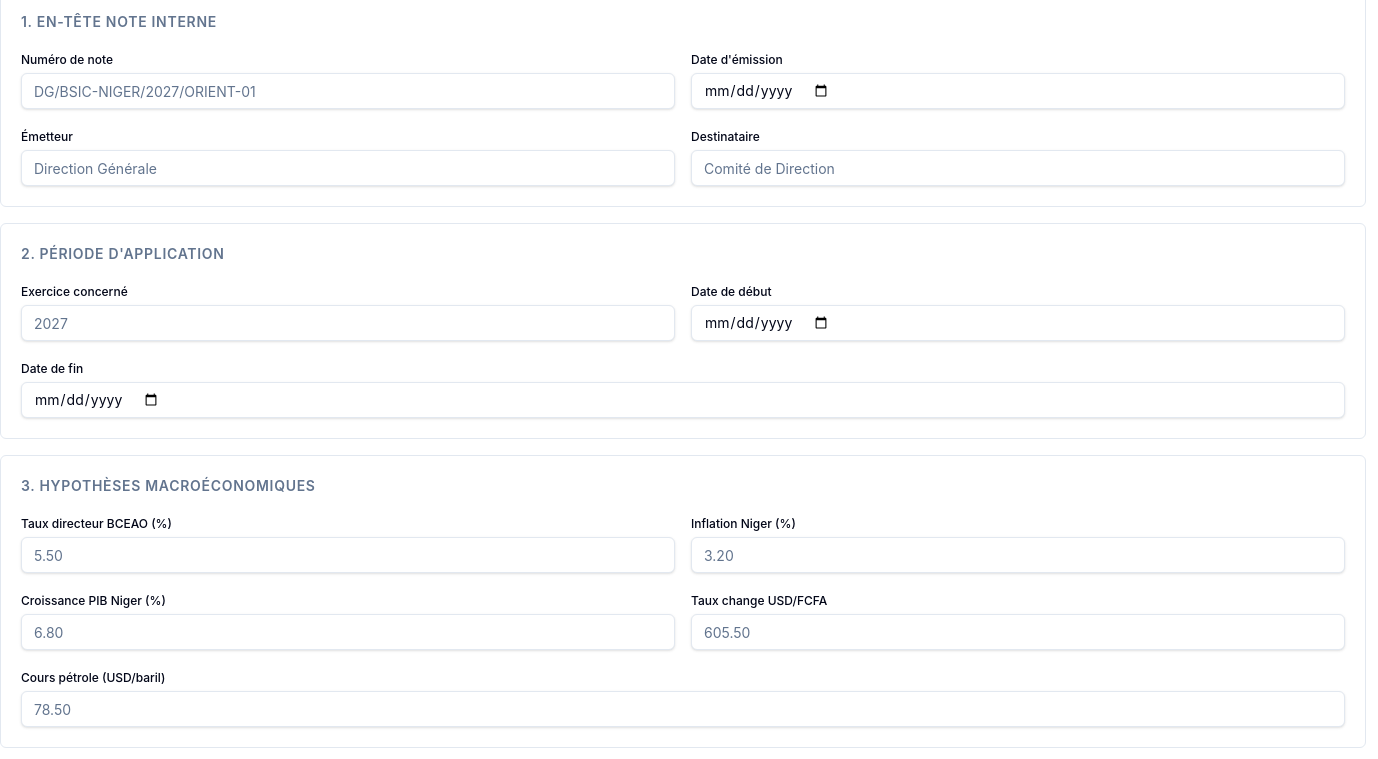
NoteOrientationDetailsForm (Lot 8.3.A P3) › 4. exercice hors plage (1990) → erreur zod + API jamais appelée
This screenshot has width=1378, height=759.
Type "1990" into the number field with test id "nod-input-exerciceConcerne".
click(348, 323); type("1990")  # box [21,305,675,341]
(page scrolled)
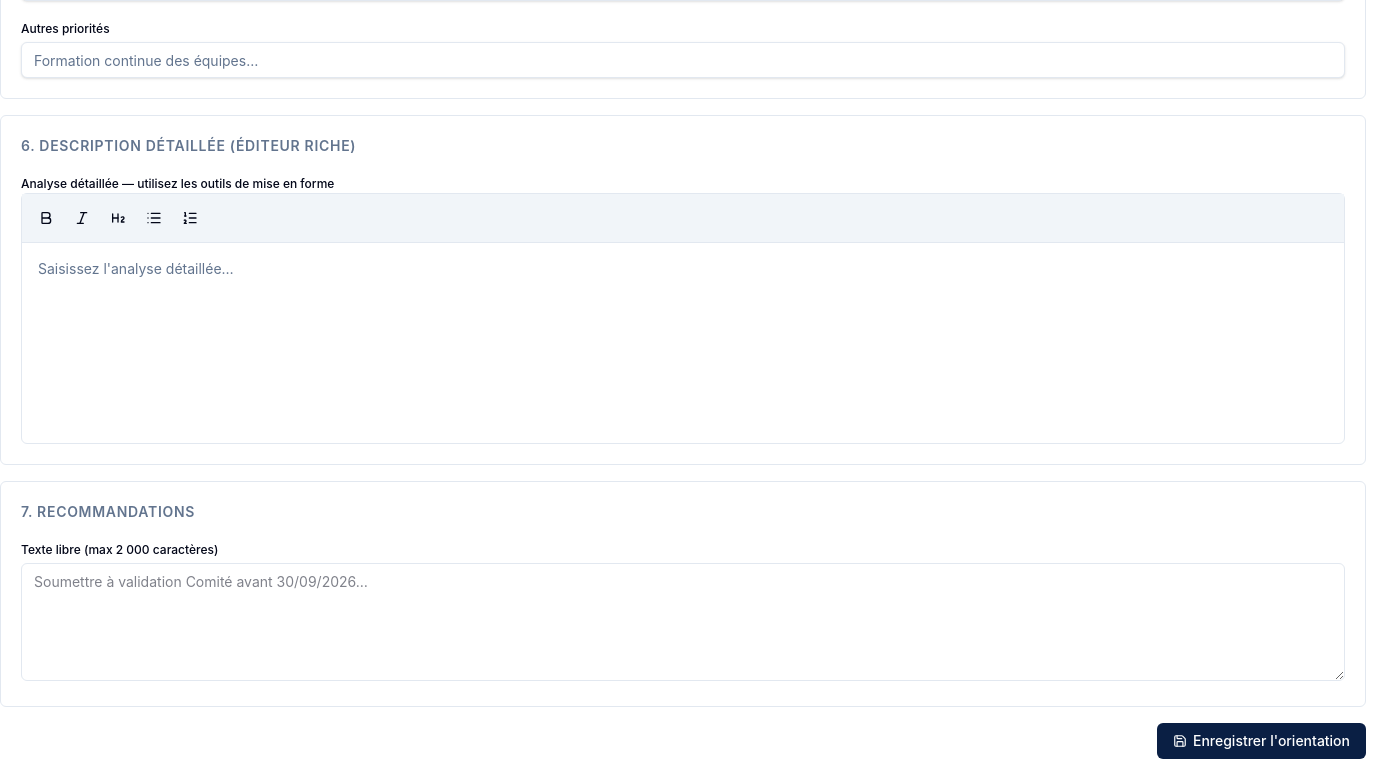
Click the button with test id "btn-save-orientation".
click(1262, 741)  # box [1157,723,1366,758]
(page scrolled)
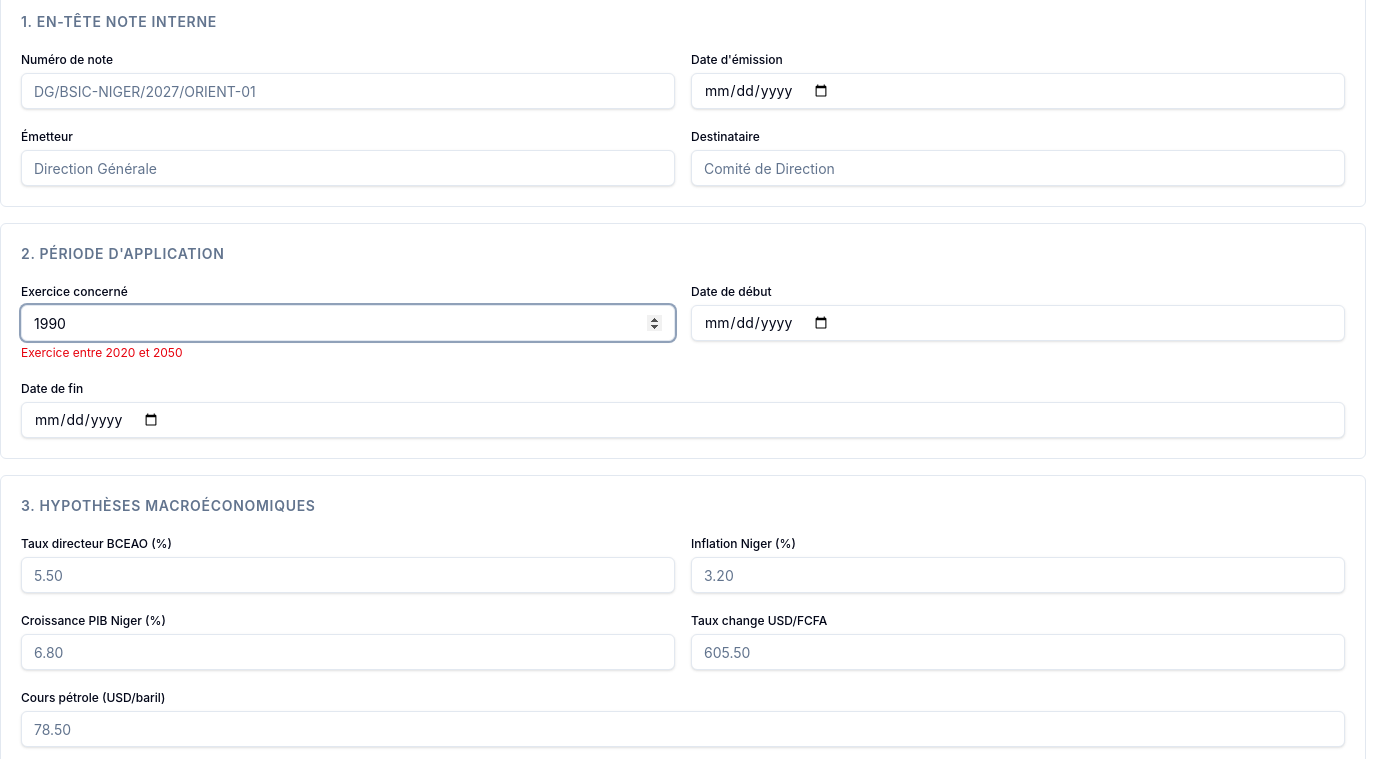
Check: the text with test id "nod-err-exerciceConcerne" reads "Exercice entre 2020 et 2050", box [21,345,182,360]
